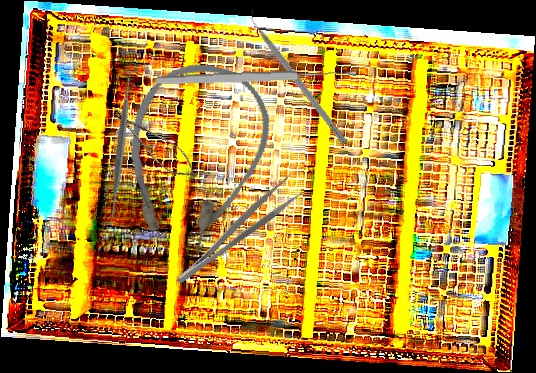Cannula: (102, 49, 284, 267)
Chopper: (244, 5, 355, 146)
Dressing Forceps: (166, 173, 305, 288)
Micro Scissor: (105, 102, 204, 187)
Spatula Surgical: (42, 67, 200, 225)
Surgical Spoon: (156, 67, 357, 87)
